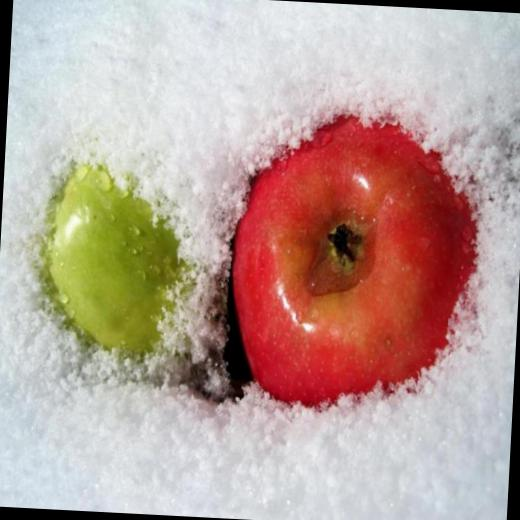Apple: (222, 106, 486, 412), (35, 158, 206, 362)
